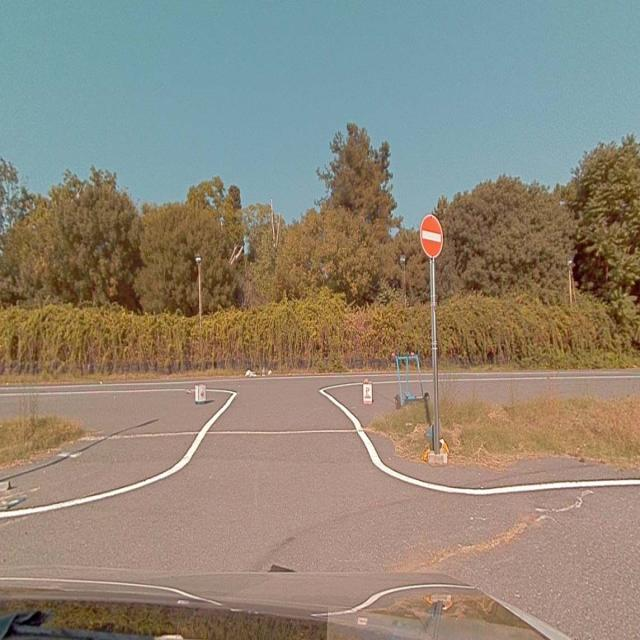girisyok: (419, 215, 444, 257)
